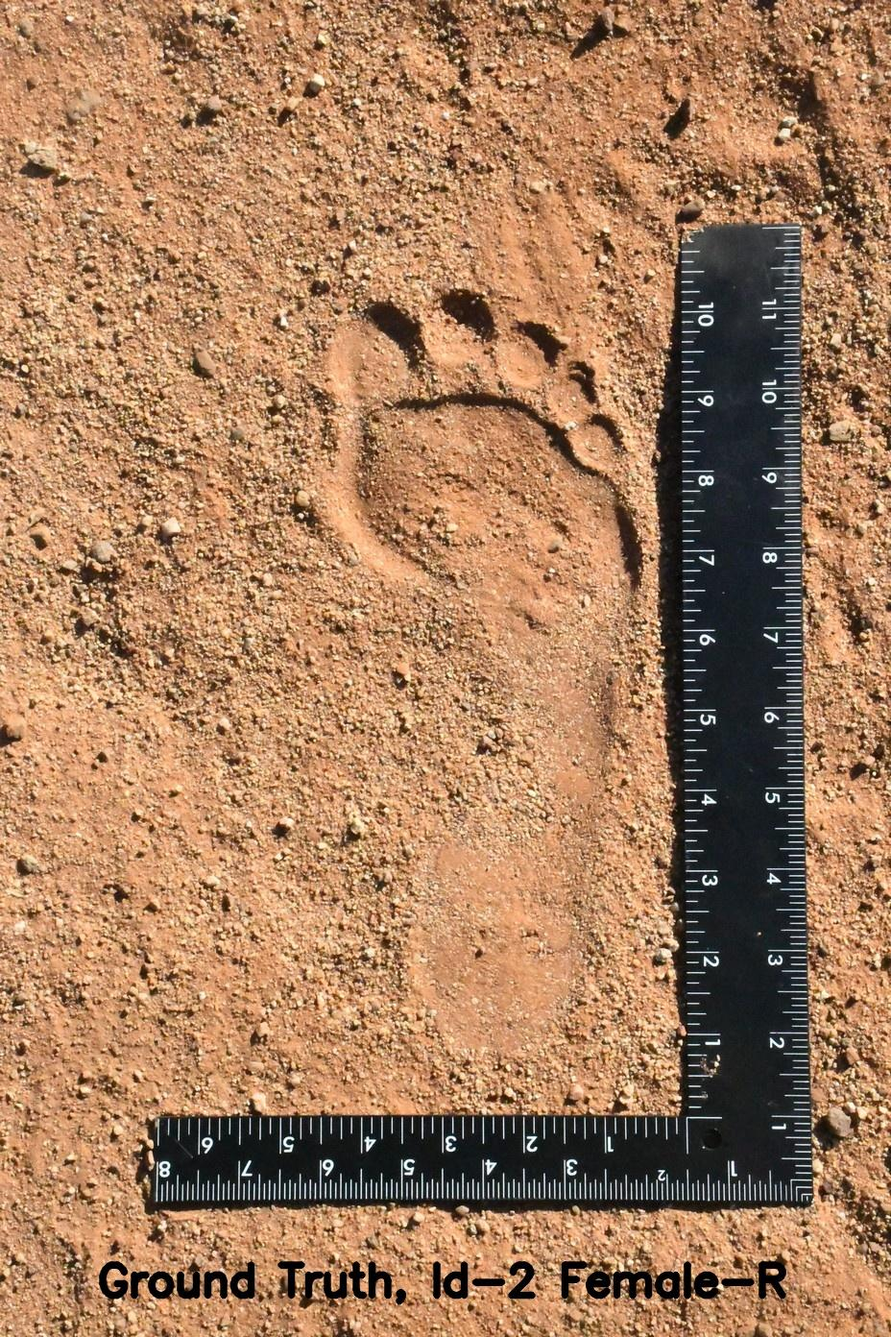human_footprint: (295, 266, 669, 1098)
